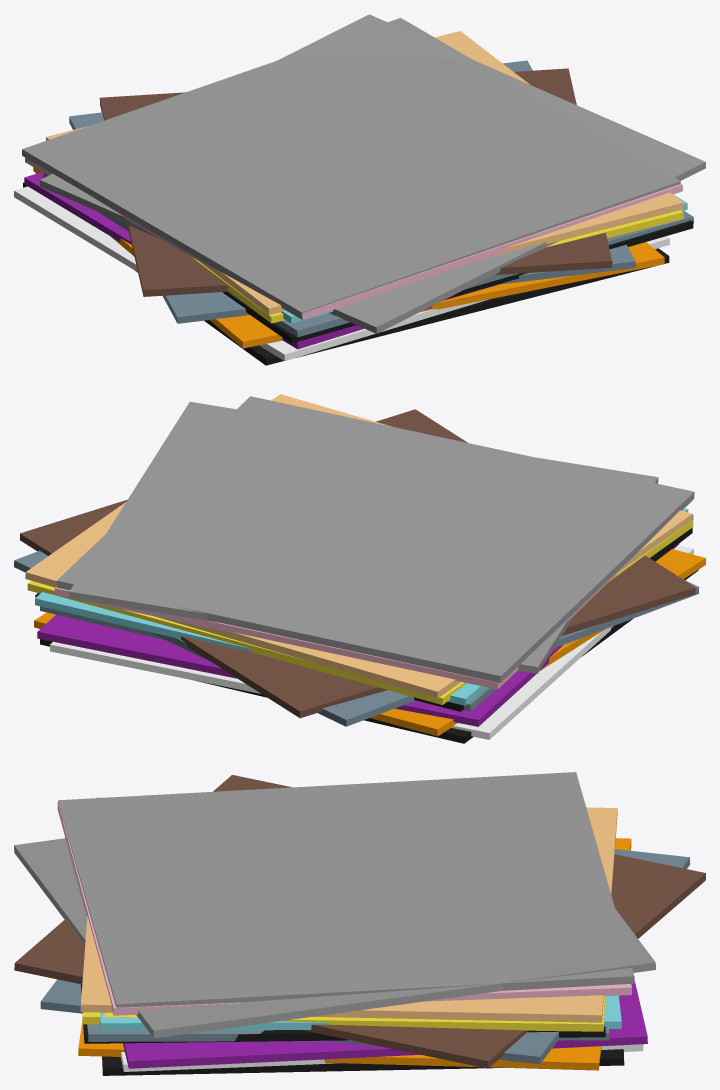
Rendered from vinyl stack 3.glb.
3 views of the same model, one above another, from view 1: azimuth 30°, elevation 25°; view 2: azimuth 150°, elevation 25°; view 3: azimuth 270°, elevation 25° (orthographic). The views are drawn at different scales.
Parts seen in each view (by area): view 1: group608281267, group889141102, group1241777729, group836232659, group906853290, group1156458666, group1542908697, group924230297, group628806985, group1704534164, group481526367, group1599080130 (+1 smaller); view 2: group608281267, group1241777729, group889141102, group836232659, group1704534164, group906853290, group1542908697, group92535811, group924230297, group1156458666, group1679567239, group628806985 (+2 smaller); view 3: group608281267, group889141102, group1241777729, group836232659, group1704534164, group1156458666, group92535811, group1542908697, group924230297, group628806985, group1599080130, group1679567239 (+2 smaller).
Part boxes in pixels (x1,y1,x2,y2): group608281267: [22, 18, 680, 318]; group889141102: [40, 14, 705, 333]; group1241777729: [99, 68, 612, 296]; group836232659: [46, 31, 683, 314]; group906853290: [14, 186, 669, 361]; group1156458666: [33, 167, 664, 348]; group1542908697: [69, 60, 635, 323]; group924230297: [25, 157, 682, 319]; group628806985: [23, 182, 669, 365]; group1704534164: [24, 172, 496, 349]; group481526367: [222, 220, 693, 343]; group1599080130: [43, 173, 693, 337]; group608281267: [56, 396, 694, 682]; group1241777729: [20, 409, 695, 718]; group889141102: [69, 402, 658, 673]; group836232659: [25, 394, 692, 698]; group1704534164: [37, 543, 679, 726]; group906853290: [50, 545, 693, 739]; group1542908697: [14, 550, 699, 726]; group92535811: [27, 520, 693, 704]; group924230297: [54, 499, 693, 689]; group1156458666: [34, 549, 705, 736]; group1679567239: [35, 508, 688, 705]; group628806985: [40, 570, 698, 743]; group608281267: [58, 772, 634, 1007]; group889141102: [14, 838, 655, 1038]; group1241777729: [14, 775, 705, 1068]; group836232659: [80, 797, 617, 1022]; group1704534164: [123, 981, 647, 1068]; group1156458666: [78, 838, 631, 1070]; group92535811: [82, 996, 605, 1031]; group1542908697: [40, 849, 690, 1064]; group924230297: [57, 802, 631, 1015]; group628806985: [102, 1049, 624, 1075]; group1599080130: [65, 837, 609, 1041]; group1679567239: [99, 995, 621, 1030].
Size of the model in its own units: 1.7 by 0.2345 by 1.7.
